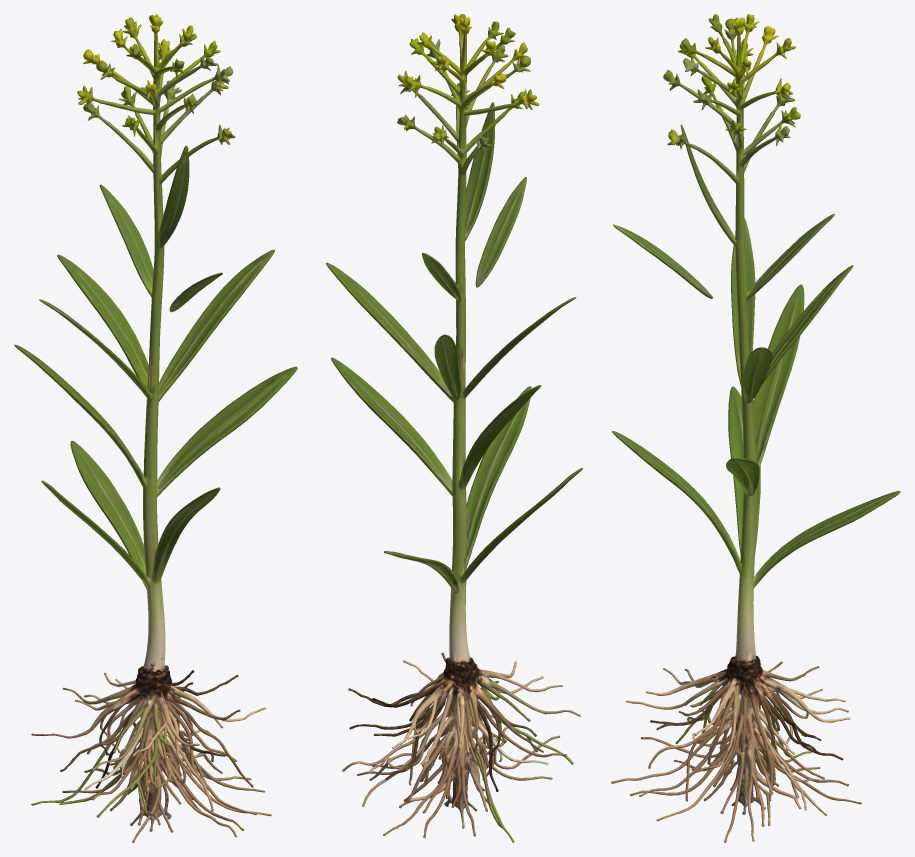
The model's file is xuchangqing.glb.
3 views of the same model, side by side, from view 1: azimuth 30°, elevation 25°; view 2: azimuth 150°, elevation 25°; view 3: azimuth 270°, elevation 25° (orthographic). The views are drawn at different scales.
Parts seen in each view (by area): view 1: node_0; view 2: node_0; view 3: node_0.
Boxes of the visible parts, box(x1,y1,x2,y2) form: node_0: box(14, 14, 297, 842); node_0: box(326, 14, 582, 842); node_0: box(611, 14, 900, 842).
Size of the model in its own units: 0.393 by 1.2 by 0.3948.
Materials: 1 (1 with a texture image).
